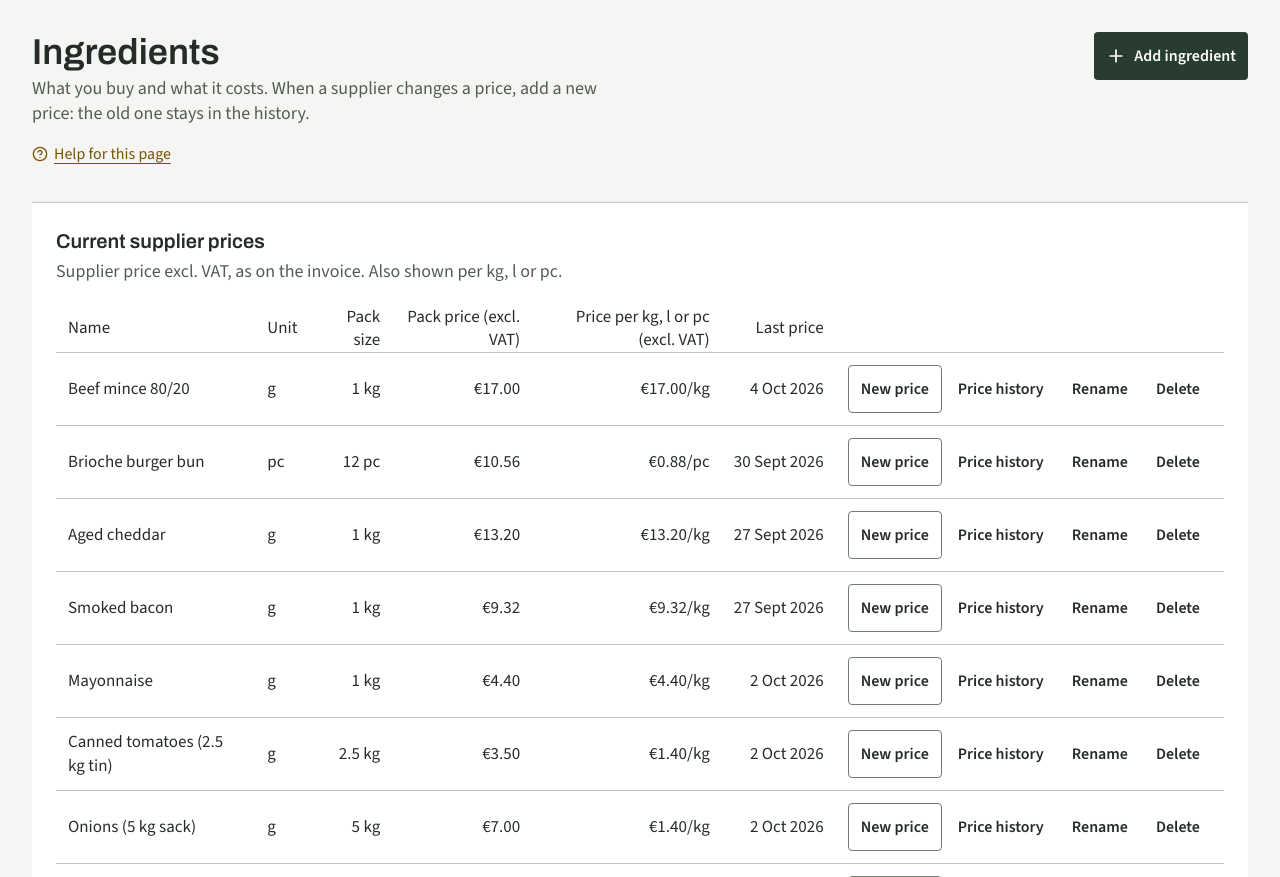
Test: keeps the draft while the writer is unavailable
The image size is (1280, 877).
(page scrolled)
Click the button "Rename" in the row of "Beef mince 80/20": (1100, 389) [1060, 365, 1140, 413]
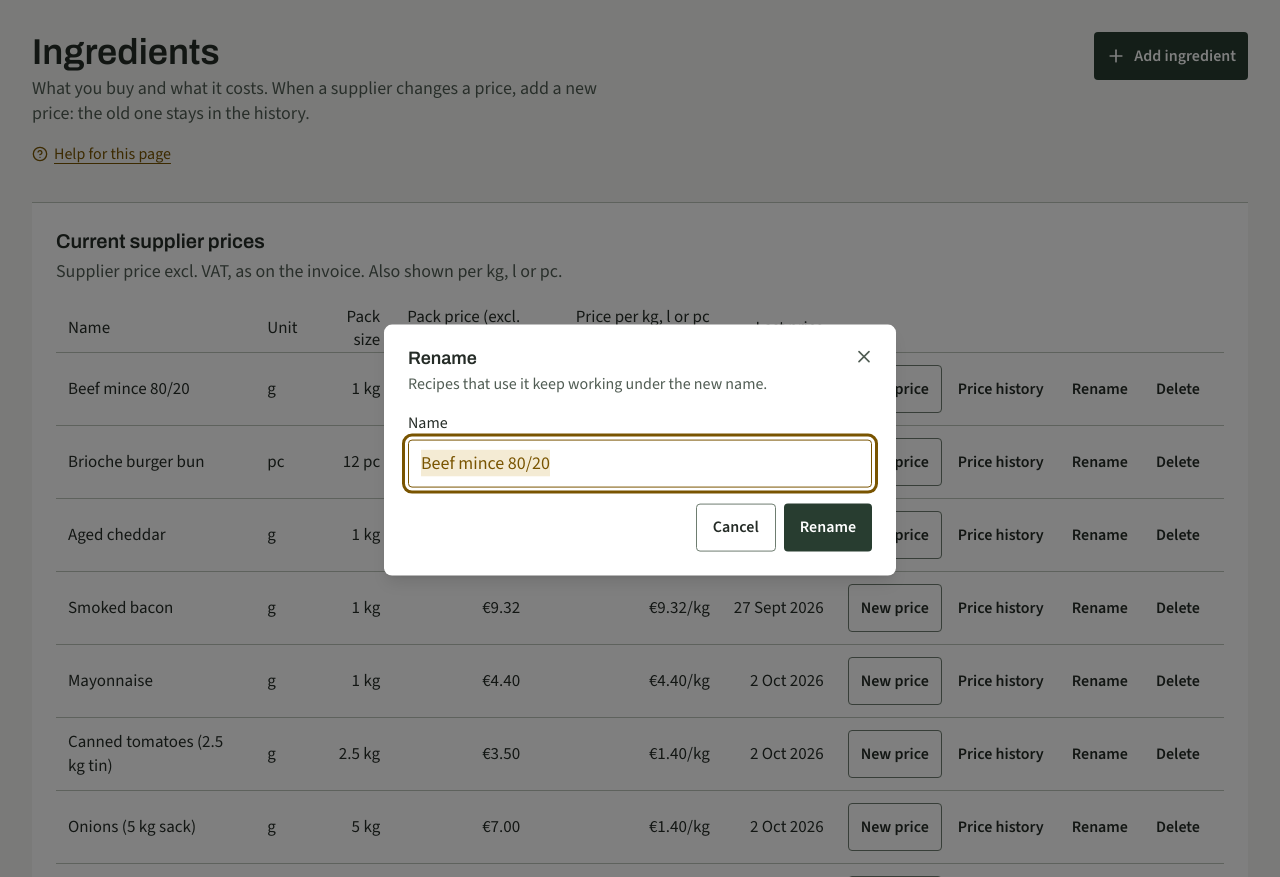
In the field labelled "Name": (640, 463) [408, 439, 872, 487], type " draft"
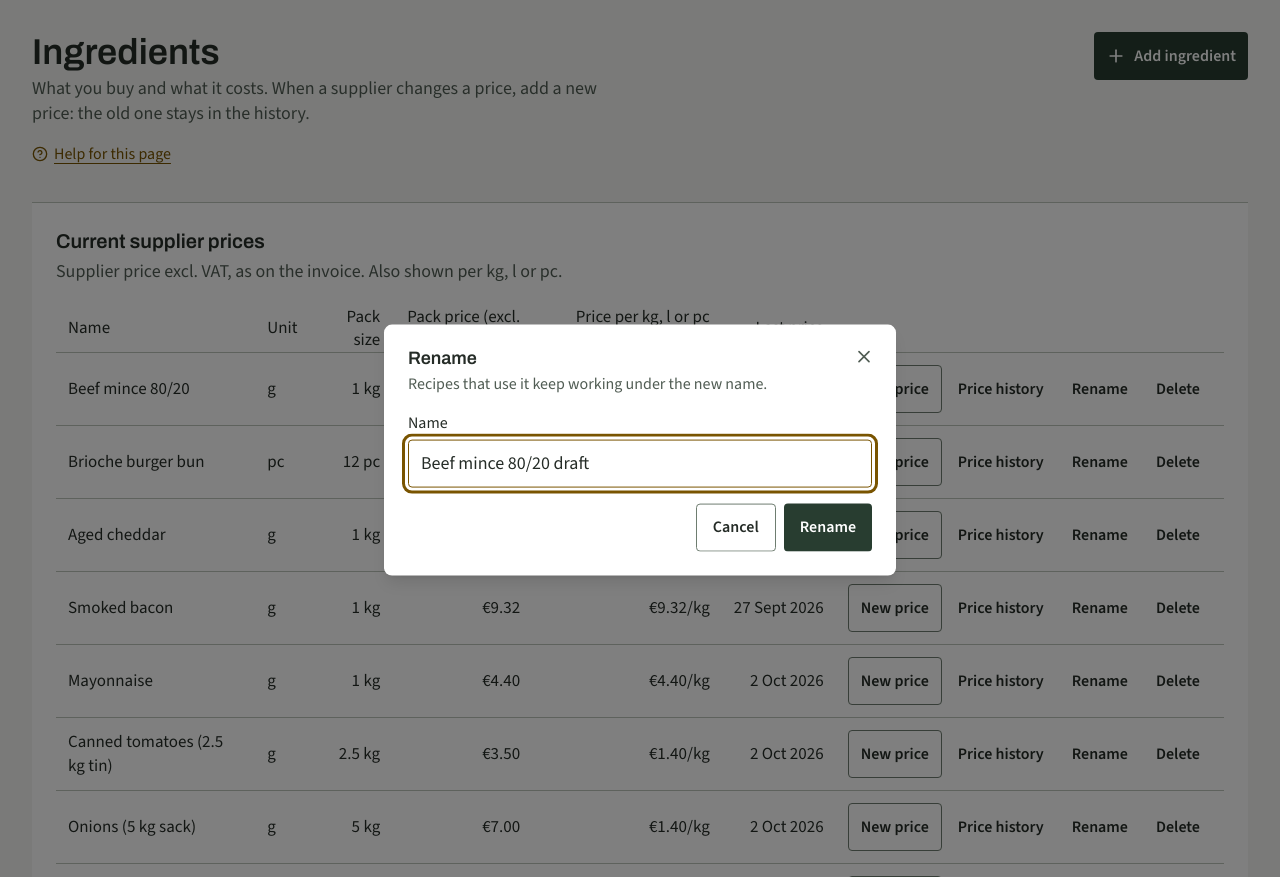
Click the button "Rename": (828, 527) [784, 503, 872, 551]
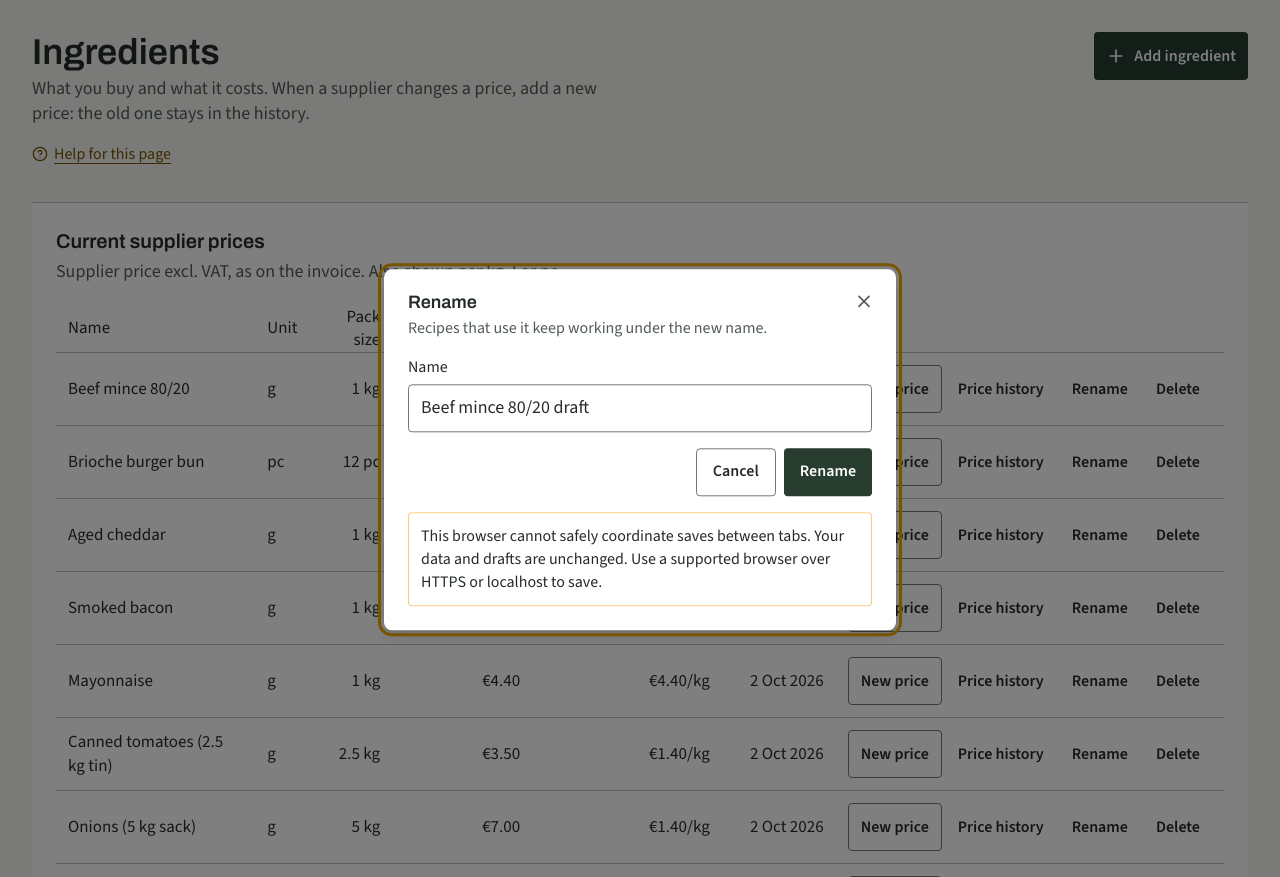
expect the field labelled "Name" holds "Beef mince 80/20 draft": met, box [408, 384, 872, 432]
expect the text "cannot safely coordinate" is shown: met, box [421, 525, 844, 592]
